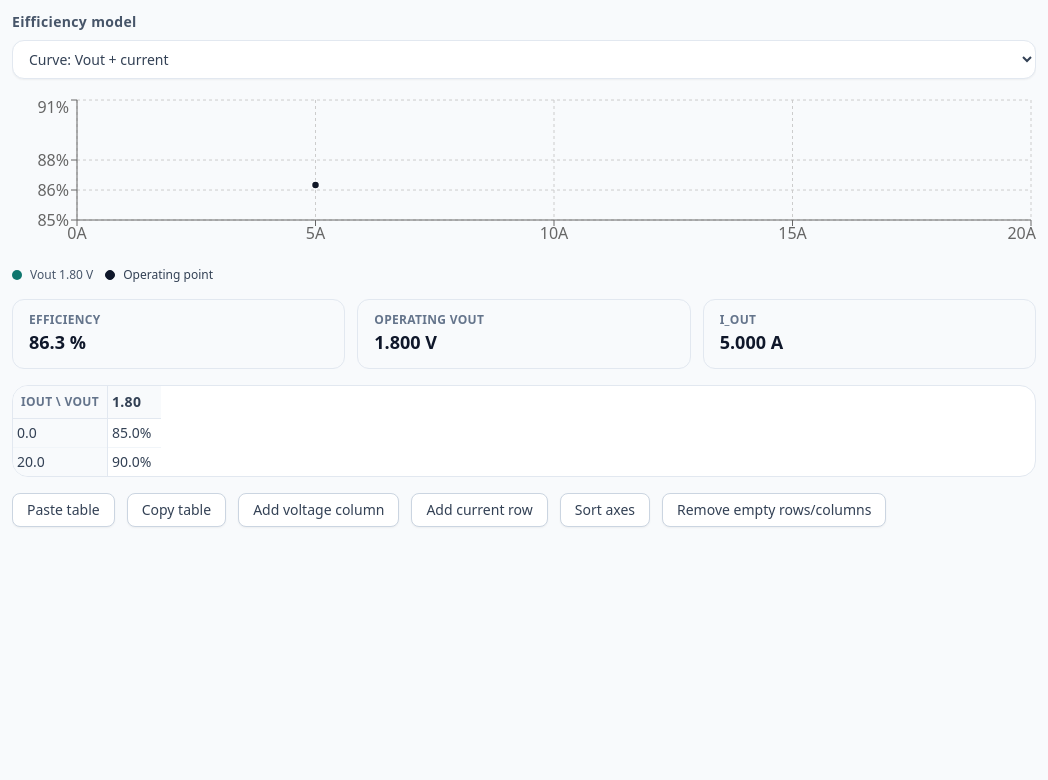
Test: EfficiencyEditor › shows an error and keeps the previous model when a pasted 2d matrix is invalid
Click the button "Paste table".
click(63, 510)  # box left=12, top=493, right=115, bottom=527
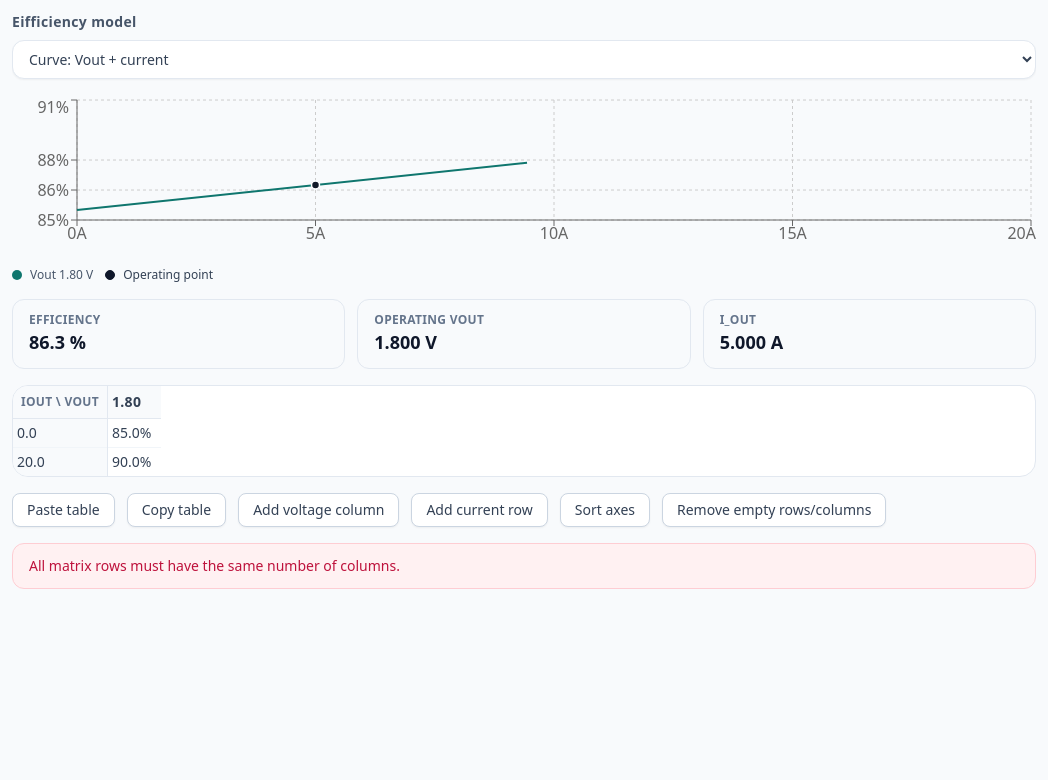
expect the message shows "same number of columns": met, box left=29, top=556, right=400, bottom=575
